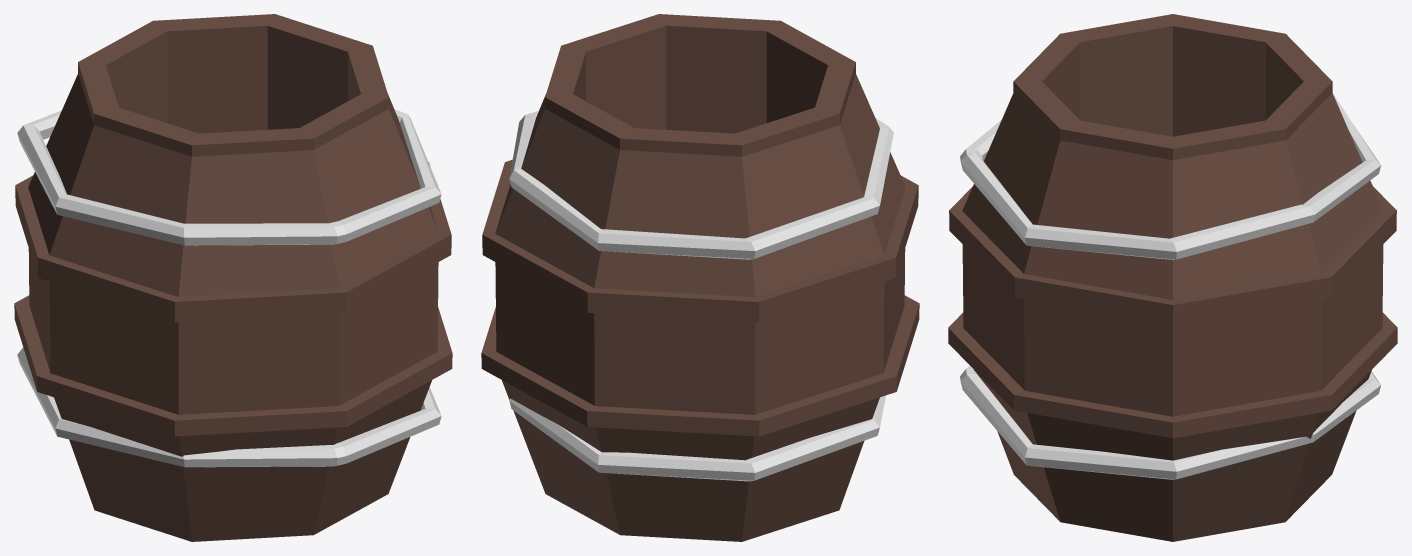
Rendered from Trash_Bin_plz_color.fbx.
3 renders of one model, left to right at view 1: azimuth 30°, elevation 25°; view 2: azimuth 150°, elevation 25°; view 3: azimuth 270°, elevation 25°, orthographic.
Visible parts, largest first — view 1: Cylinder, Cylinder.001, Cylinder.002; view 2: Cylinder, Cylinder.001, Cylinder.002; view 3: Cylinder, Cylinder.001, Cylinder.002.
Part boxes in pixels (x1=…): Cylinder: x1=14, y1=14, x2=452, y2=541; Cylinder.001: x1=17, y1=109, x2=441, y2=245; Cylinder.002: x1=17, y1=347, x2=441, y2=467; Cylinder: x1=481, y1=14, x2=919, y2=541; Cylinder.001: x1=509, y1=111, x2=893, y2=259; Cylinder.002: x1=509, y1=395, x2=885, y2=481; Cylinder: x1=948, y1=14, x2=1397, y2=541; Cylinder.001: x1=960, y1=93, x2=1381, y2=259; Cylinder.002: x1=960, y1=366, x2=1381, y2=479.
Bounding box in the file's own units: 113 × 109 × 113.
